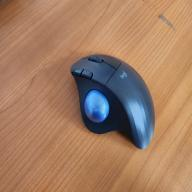mouse: (70, 54, 156, 150)
